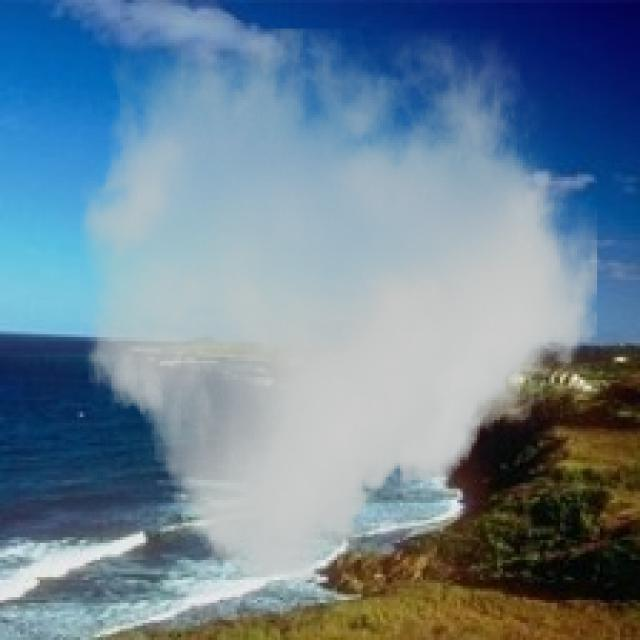Smoke: (80, 28, 597, 580)
